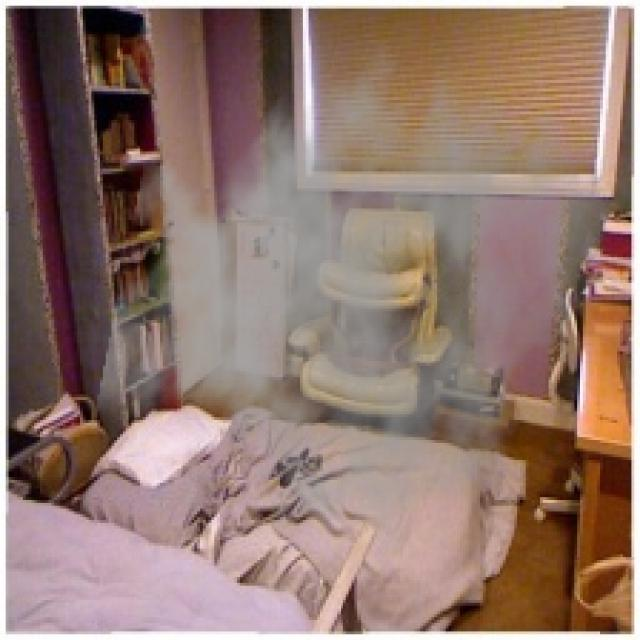Smoke: (94, 19, 612, 554)
